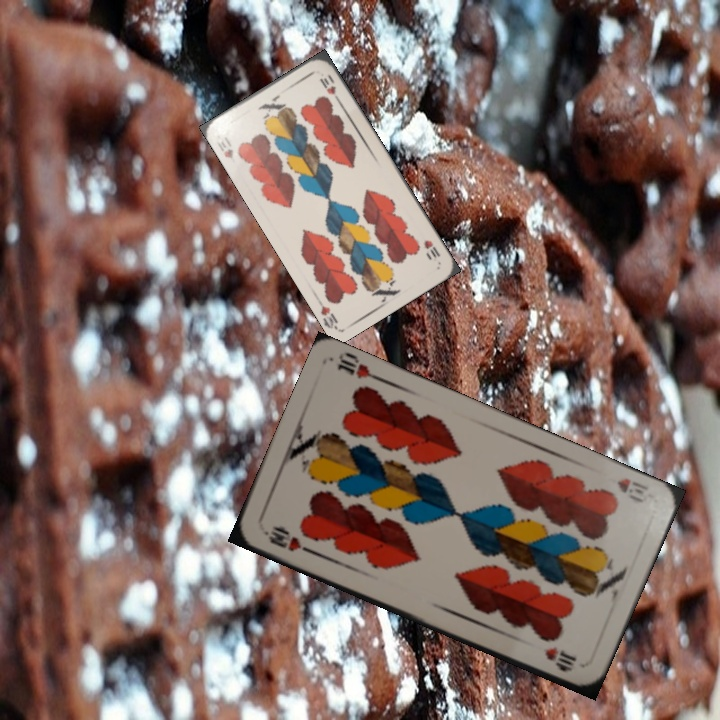H10: (259, 522, 315, 557), (612, 473, 655, 506), (420, 236, 443, 264), (213, 134, 236, 161)
